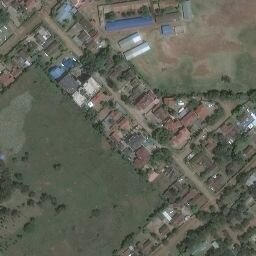tree: (151, 127, 173, 144), (206, 89, 219, 100), (113, 52, 124, 64), (190, 143, 203, 153), (55, 204, 66, 214), (196, 211, 208, 220), (24, 223, 33, 232), (221, 75, 231, 83), (14, 173, 23, 181), (53, 163, 60, 170), (162, 238, 169, 245), (26, 199, 34, 205), (28, 191, 35, 197), (166, 232, 173, 238), (172, 228, 178, 233)
